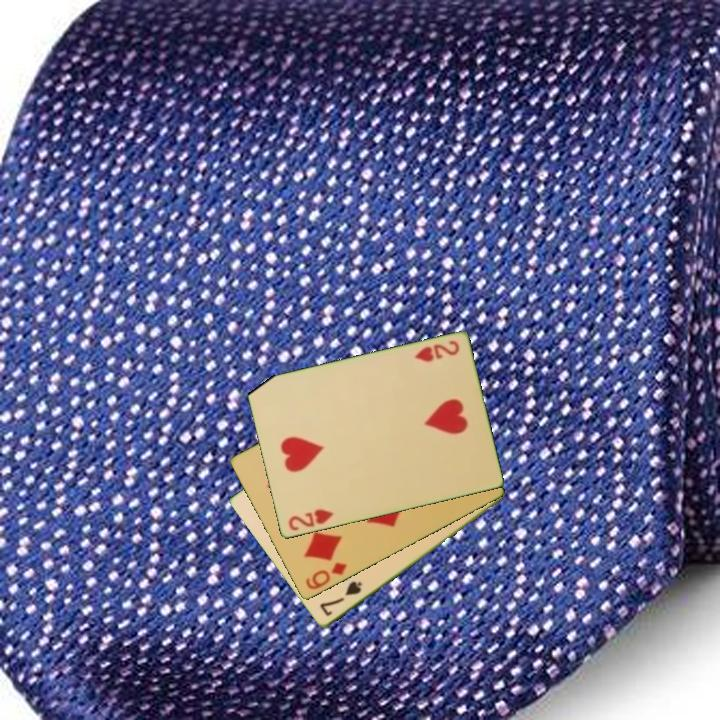2h: (284, 506, 336, 534), (411, 337, 462, 365)
6d: (302, 559, 350, 593)
7s: (316, 578, 365, 620)
